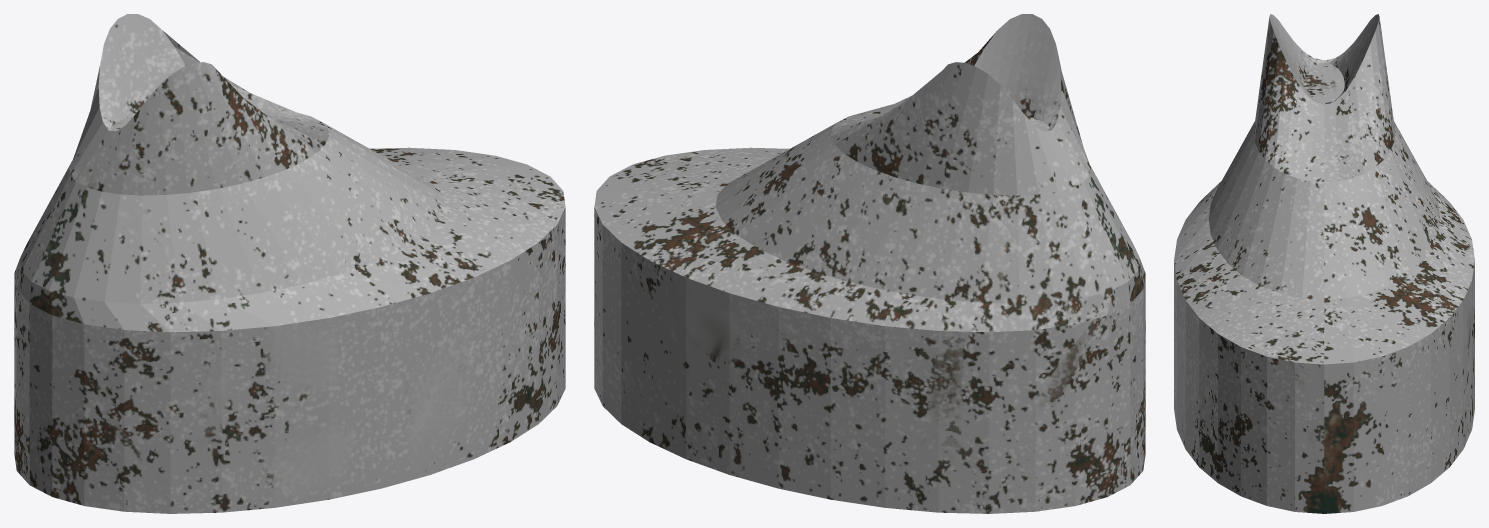
File: SmallGunMount.fbx
The picture shows the model from 3 angles, left to right: view 1: azimuth 30°, elevation 25°; view 2: azimuth 150°, elevation 25°; view 3: azimuth 270°, elevation 25°; orthographic projection. The views are drawn at different scales.
Parts seen in each view (by area): view 1: Cylinder; view 2: Cylinder; view 3: Cylinder.
Boxes of the visible parts, x1,y1,x2,y2 form: Cylinder: (14, 14, 565, 513); Cylinder: (594, 14, 1145, 513); Cylinder: (1174, 14, 1474, 513).
Size of the model in its own units: 0.15 by 0.1141 by 0.0912.
